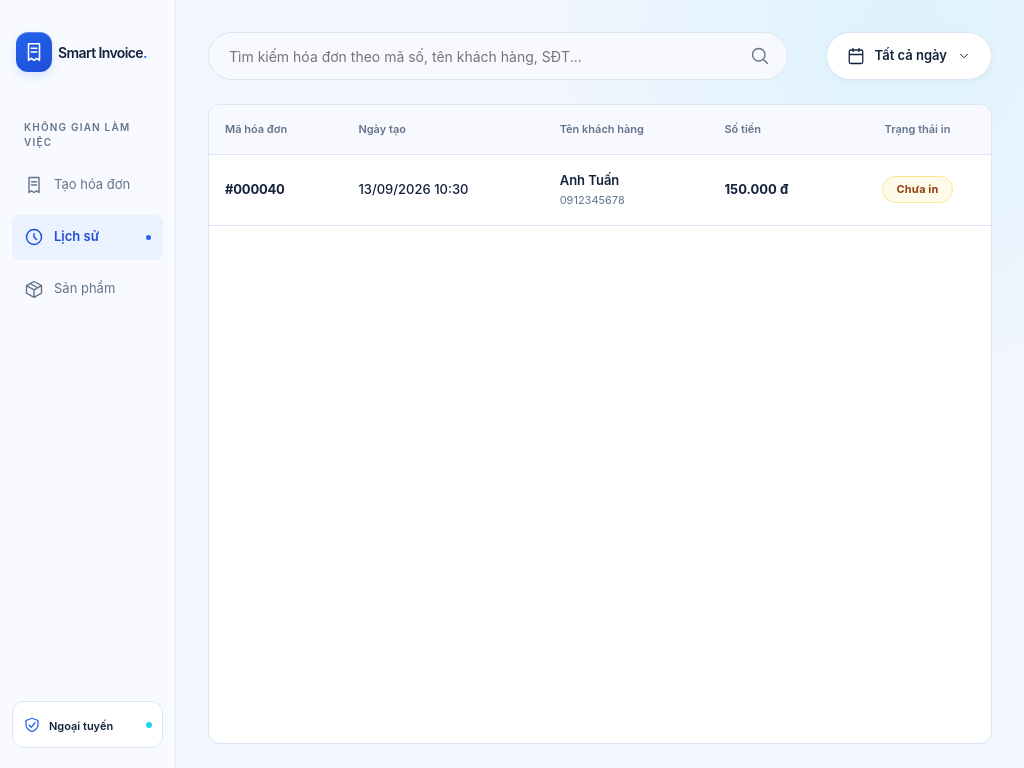
Test case: InvoiceHistoryScreen › resolves legacy customer name and phone from localStorage when db values are null
Expected: the text "Anh Tuấn" is shown, [560,172,619,188]
Expected: the text "0912345678" is shown, [560,193,625,207]
// Click row to open preview receipt modal and ensure customer name is passed
Click the text "#000040": (276, 190) [209,154,342,225]
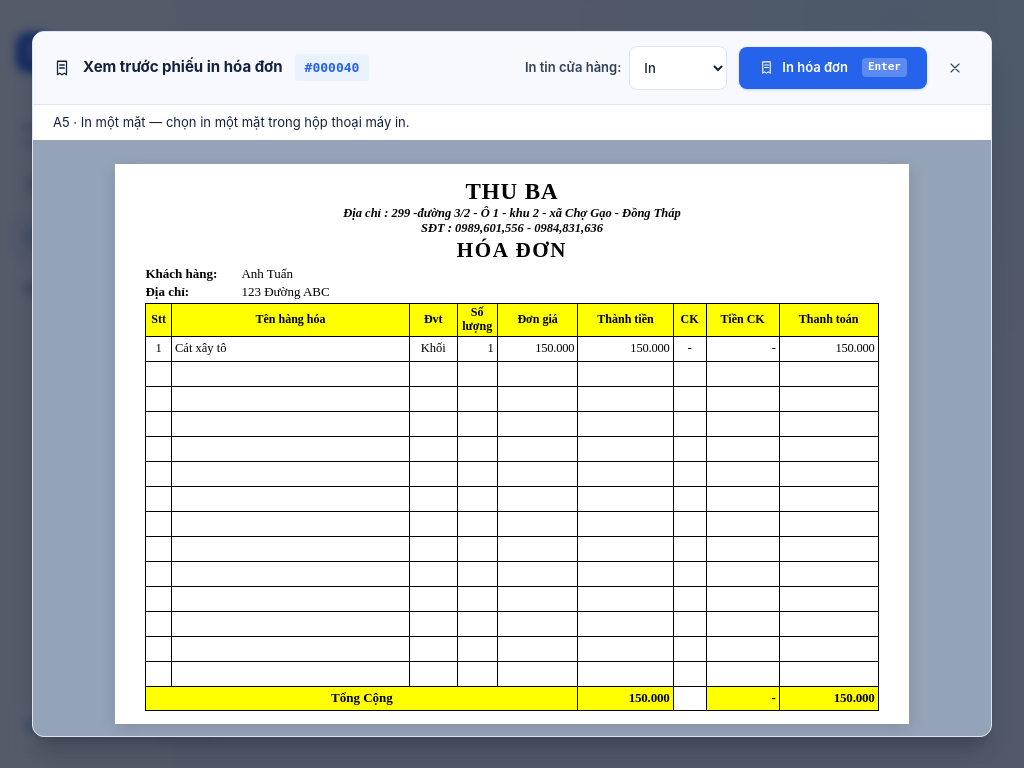
Expected: the heading "Xem trước phiếu in hóa đơn" is shown, [83,56,283,79]
